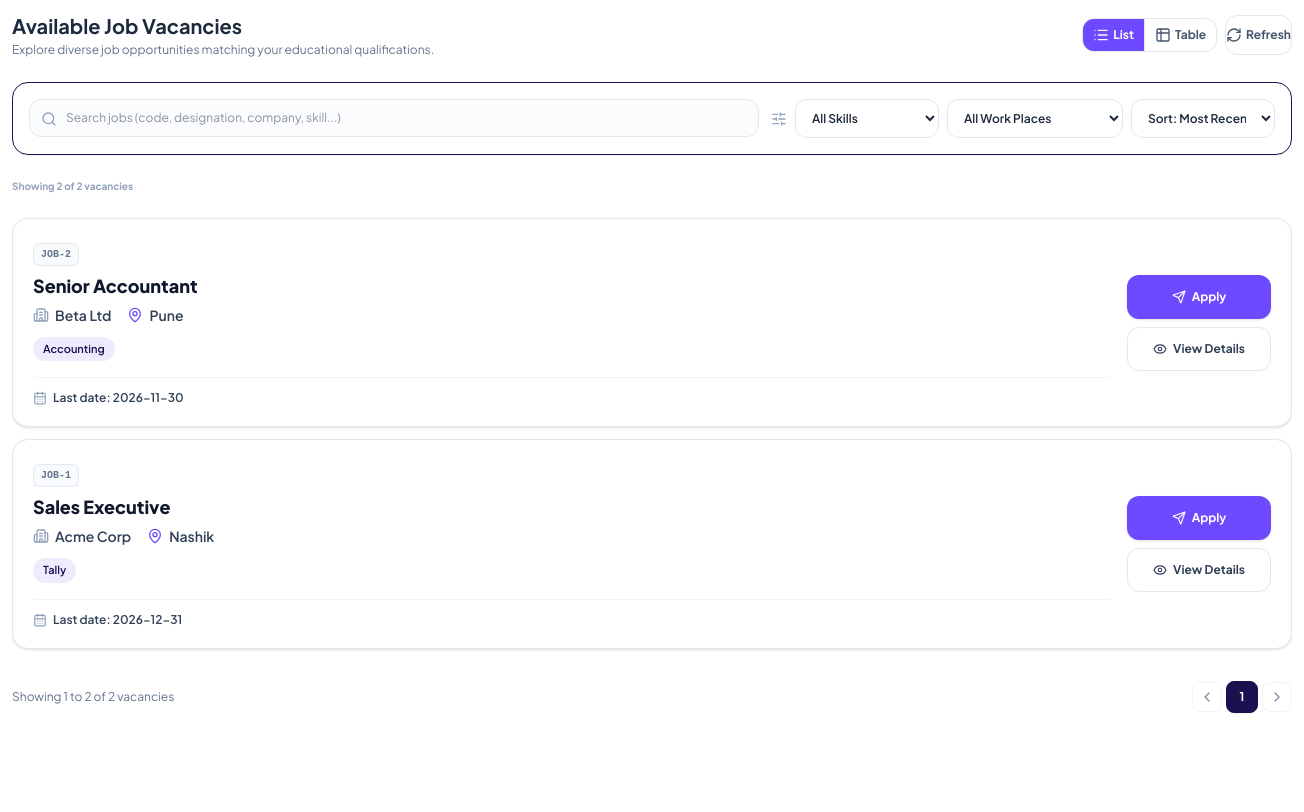
JobListingView › filters the list as the user types in the search box
Type "Accountant" into the field with placeholder "Search jobs (code, designation, company, skill...)".
click(394, 118); type("Accountant")  # box [29,99,759,137]
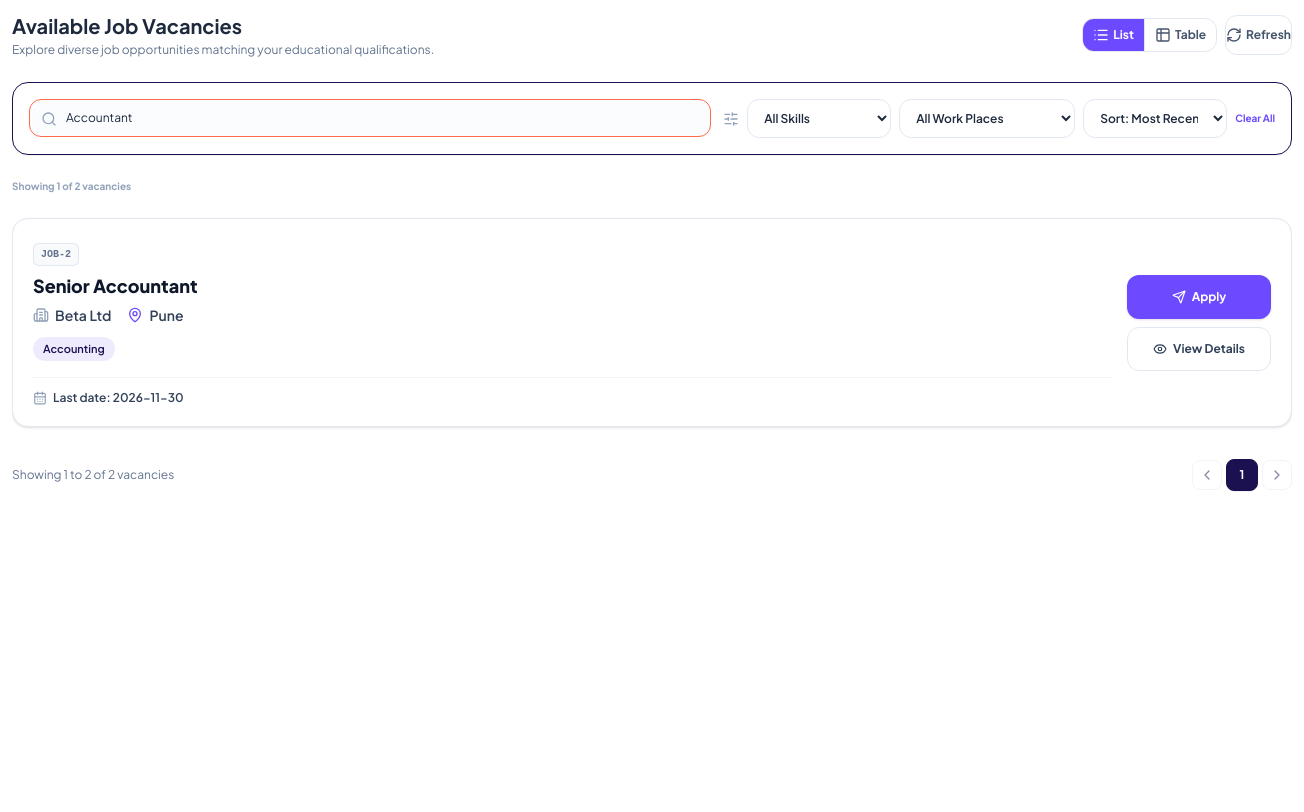
Check: the button "Senior Accountant" is shown, box [33,274,198,299]
Check: the button "Sales Executive" is gone
Check: the text "Showing 1 of 2 vacancies" is shown, box [12,180,131,192]
